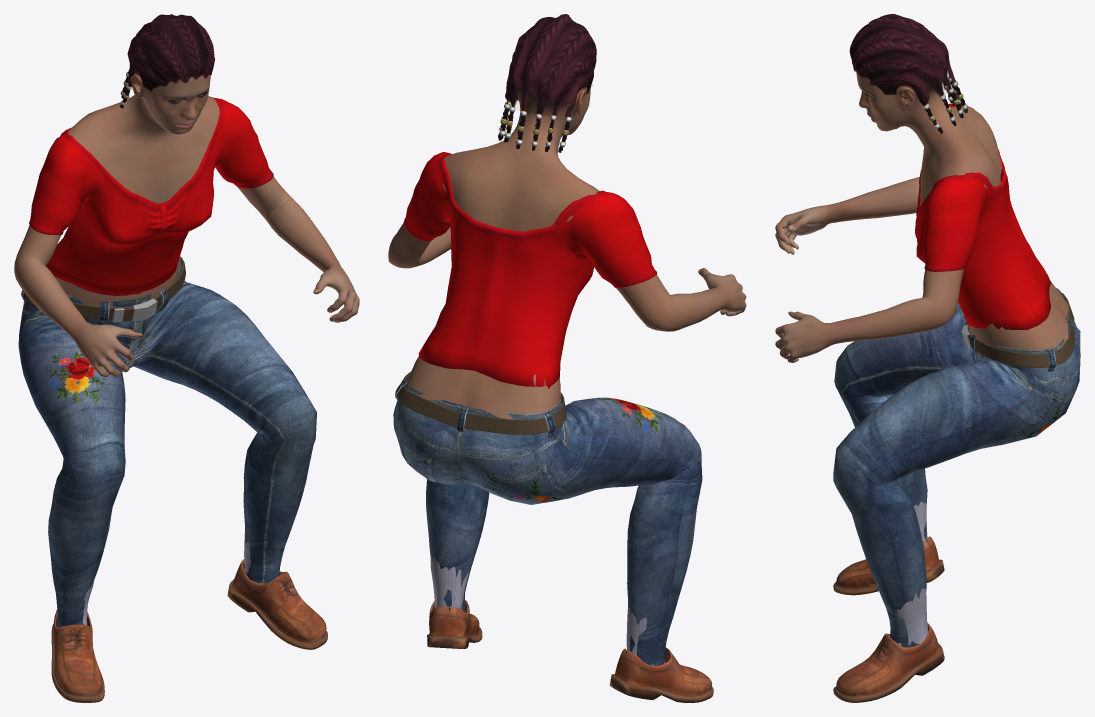
File: donna-02.glb
3 views of the same model, side by side, from view 1: azimuth 30°, elevation 25°; view 2: azimuth 150°, elevation 25°; view 3: azimuth 270°, elevation 25° (orthographic). The views are drawn at different scales.
Parts seen in each view (by area): view 1: Human.mindfront_female_trousers_1, Human, Human.punkduck_retro_top, Human.shoes01, Human.elvs_braided_rows; view 2: Human.mindfront_female_trousers_1, Human.punkduck_retro_top, Human, Human.elvs_braided_rows, Human.shoes01; view 3: Human.mindfront_female_trousers_1, Human, Human.punkduck_retro_top, Human.shoes01, Human.elvs_braided_rows.
Part boxes in pixels (x1,y1,x2,y2): Human.mindfront_female_trousers_1: (18, 257, 316, 627); Human: (14, 72, 359, 377); Human.punkduck_retro_top: (29, 97, 273, 295); Human.shoes01: (51, 530, 327, 702); Human.elvs_braided_rows: (119, 14, 214, 108); Human.mindfront_female_trousers_1: (393, 371, 702, 666); Human.punkduck_retro_top: (403, 152, 657, 388); Human: (388, 86, 746, 419); Human.elvs_braided_rows: (498, 14, 596, 152); Human.shoes01: (427, 555, 713, 702); Human.mindfront_female_trousers_1: (833, 288, 1080, 647); Human: (775, 71, 1068, 362); Human.punkduck_retro_top: (915, 103, 1050, 330); Human.shoes01: (833, 501, 944, 702); Human.elvs_braided_rows: (849, 14, 967, 134).
Size of the model in its own units: 0.6564 by 1.42 by 0.6308.
Materials: 13 (13 with a texture image).
